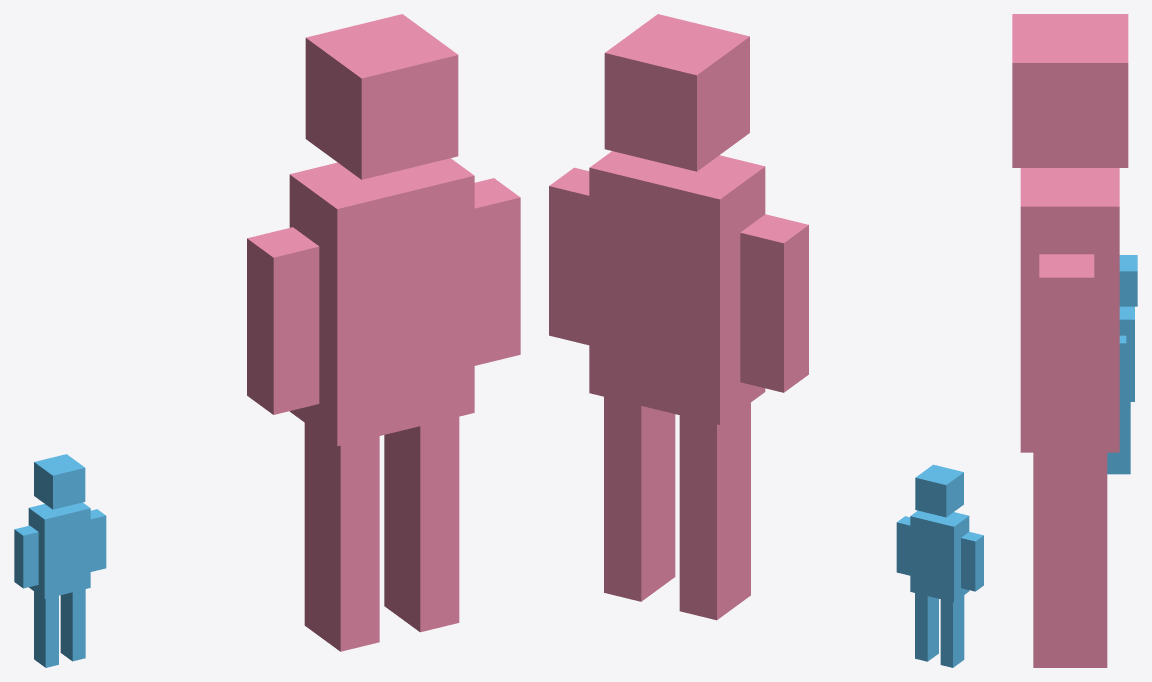
File: Projection Pal TM.fbx
3 renders of one model, left to right at view 1: azimuth 30°, elevation 25°; view 2: azimuth 150°, elevation 25°; view 3: azimuth 270°, elevation 25°, orthographic. The views are drawn at different scales.
Visible parts, largest first — view 1: Projection Pal Regular, Projection Pal Small; view 2: Projection Pal Regular, Projection Pal Small; view 3: Projection Pal Regular, Projection Pal Small.
Boxes of the visible parts, x1=… form: Projection Pal Regular: x1=247, y1=14, x2=520, y2=651; Projection Pal Small: x1=14, y1=454, x2=106, y2=667; Projection Pal Regular: x1=549, y1=14, x2=808, y2=620; Projection Pal Small: x1=896, y1=464, x2=983, y2=667; Projection Pal Regular: x1=1012, y1=14, x2=1128, y2=667; Projection Pal Small: x1=1107, y1=255, x2=1137, y2=474.
Size of what is drawn, in the model's own units: 220 by 262 by 49.75.
